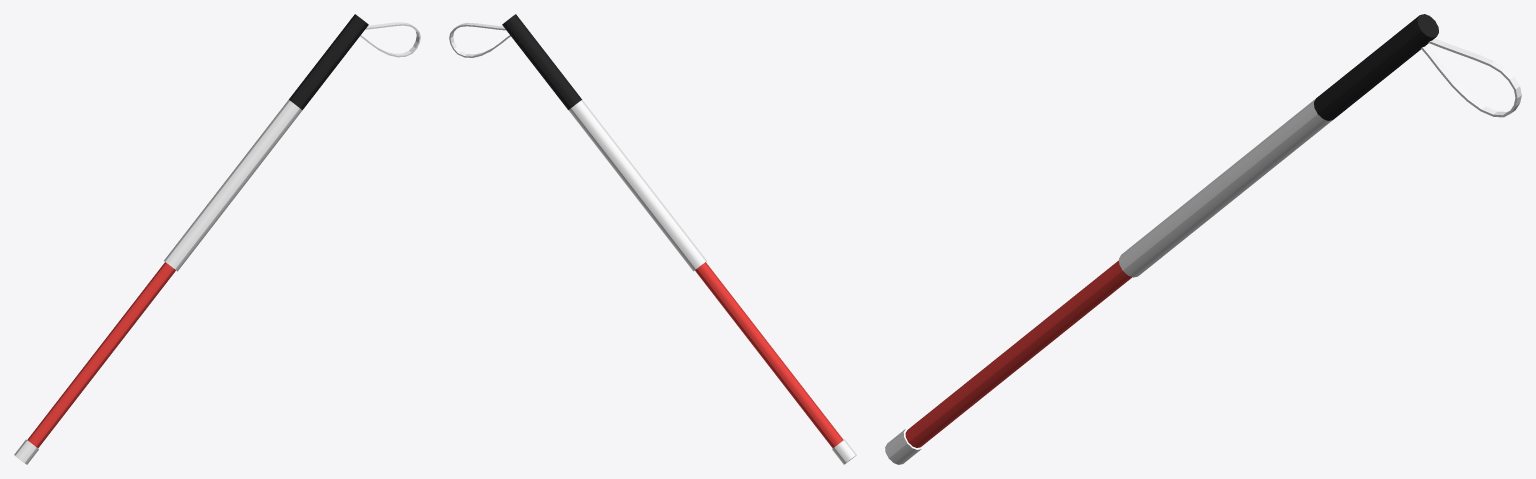
File: white_cane.fbx
The picture shows the model from 3 angles, left to right: view 1: azimuth 30°, elevation 25°; view 2: azimuth 150°, elevation 25°; view 3: azimuth 330°, elevation 25°; orthographic projection. The views are drawn at different scales.
Visible parts, largest first — view 1: Cube.1000; view 2: Cube.1000; view 3: Cube.1000.
Part boxes in pixels (x1=…): Cube.1000: x1=14, y1=14, x2=420, y2=464; Cube.1000: x1=449, y1=14, x2=856, y2=464; Cube.1000: x1=885, y1=14, x2=1521, y2=464.
Bounding box in the file's own units: 223 × 194 × 8.66.
1 material, 1 textured.
